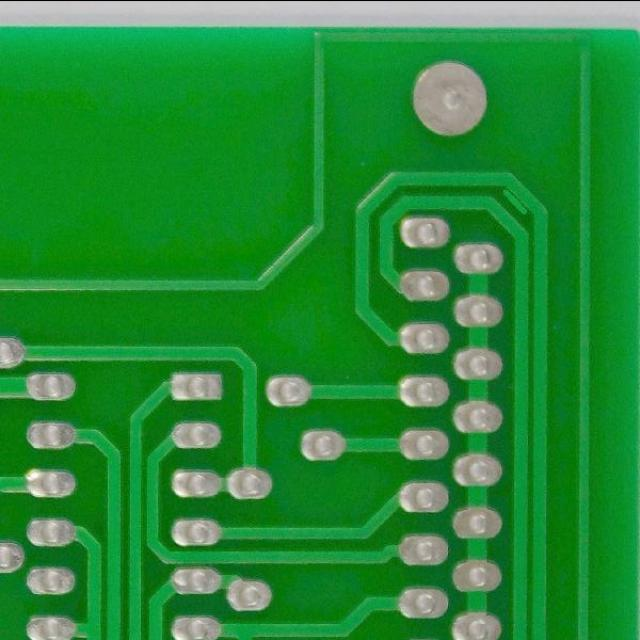Spurious_Cooper: (497, 182, 536, 220)
